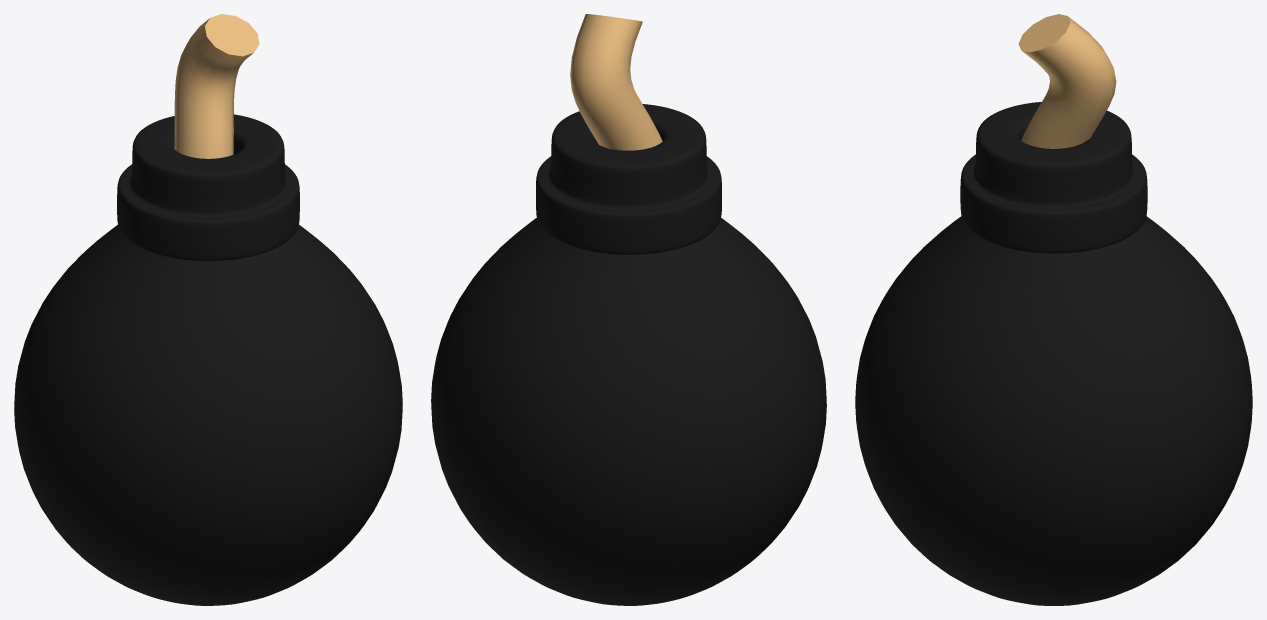
The model's file is BombModel.fbx.
3 renders of one model, left to right at view 1: azimuth 30°, elevation 25°; view 2: azimuth 150°, elevation 25°; view 3: azimuth 270°, elevation 25°, orthographic. The views are drawn at different scales.
Visible parts, largest first — view 1: Sphere, BezierCurve; view 2: Sphere, BezierCurve; view 3: Sphere, BezierCurve.
Boxes of the visible parts, x1,y1,x2,y2 form: Sphere: (14, 114, 402, 605); BezierCurve: (174, 14, 259, 158); Sphere: (431, 104, 826, 605); BezierCurve: (570, 14, 662, 150); Sphere: (855, 102, 1252, 605); BezierCurve: (1018, 14, 1116, 148).
Size of the model in its own units: 190 by 304 by 190.
